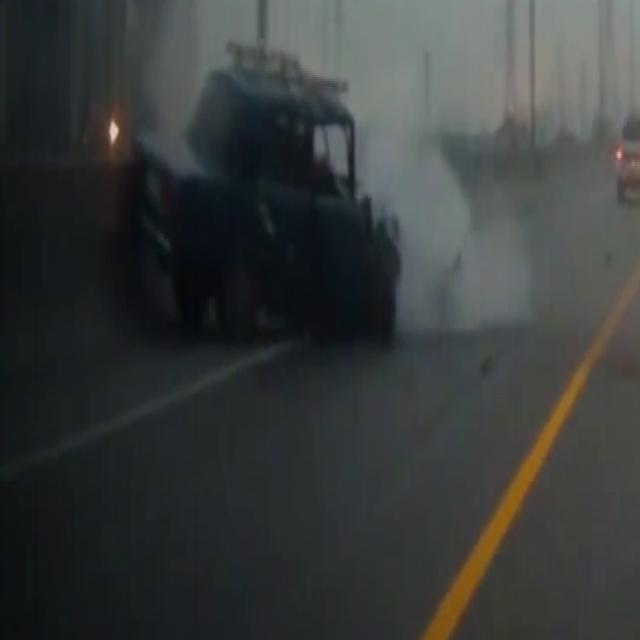accident: (132, 12, 427, 358)
